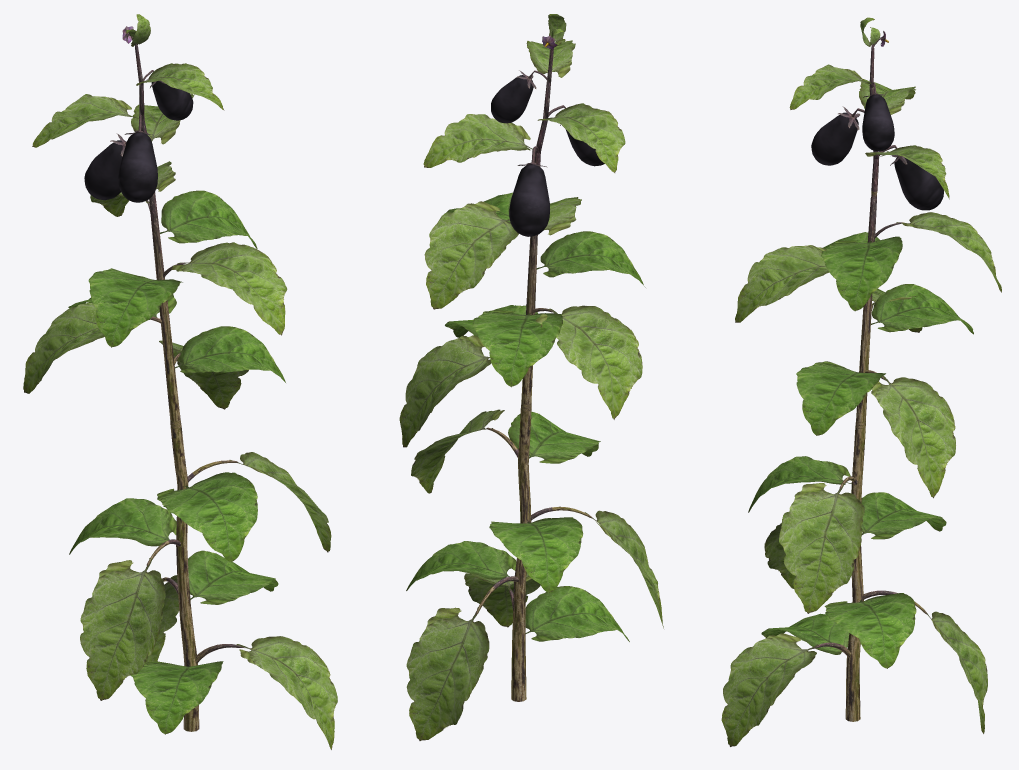
3 renders of one model, left to right at view 1: azimuth 30°, elevation 25°; view 2: azimuth 150°, elevation 25°; view 3: azimuth 270°, elevation 25°, orthographic. The views are drawn at different scales.
Parts seen in each view (by area): view 1: VG19_5; view 2: VG19_5; view 3: VG19_5.
Part boxes in pixels (<box>): VG19_5: <box>23,14,337,749</box>; VG19_5: <box>399,14,663,740</box>; VG19_5: <box>721,17,1001,746</box>.
Size of the model in its own units: 0.2662 by 0.673 by 0.267.
9 materials, 9 textured.
